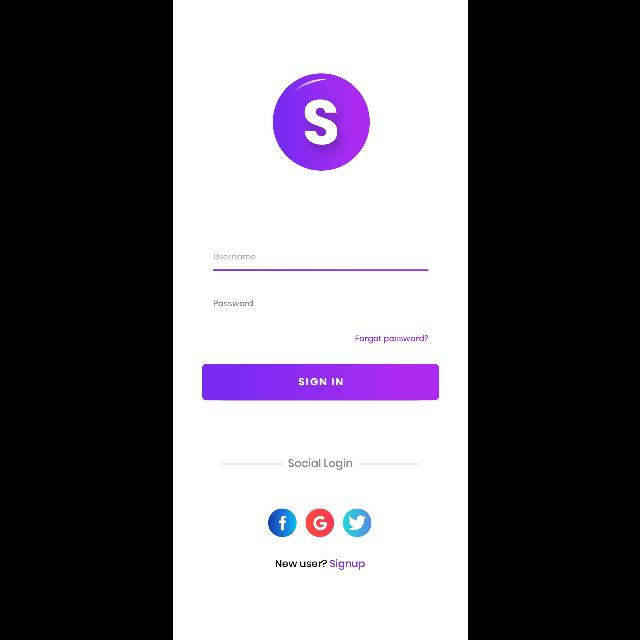icon: (268, 508, 296, 538), (305, 508, 333, 538), (343, 509, 371, 537)
image: (272, 73, 370, 171)
input: (212, 300, 428, 320), (212, 253, 428, 270)
text: (288, 458, 352, 470), (354, 334, 428, 344), (276, 559, 326, 567), (330, 560, 364, 570), (213, 254, 255, 260), (214, 300, 252, 306)
textbutton: (201, 364, 439, 401)
